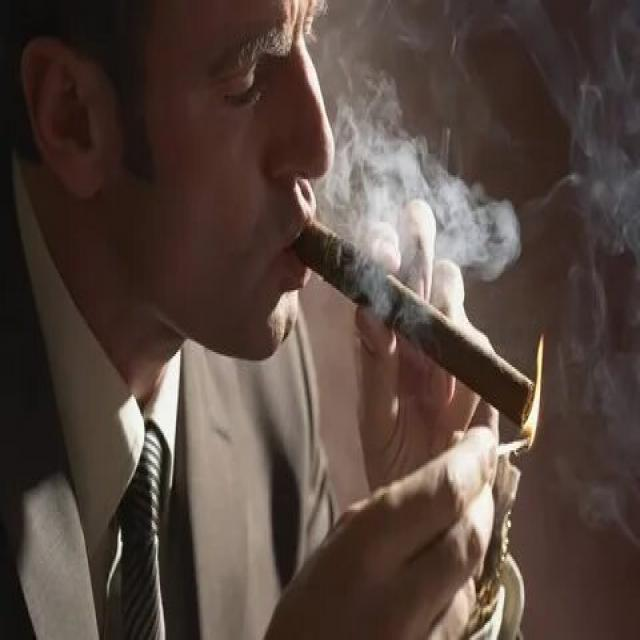smoke: (295, 209, 540, 435)
